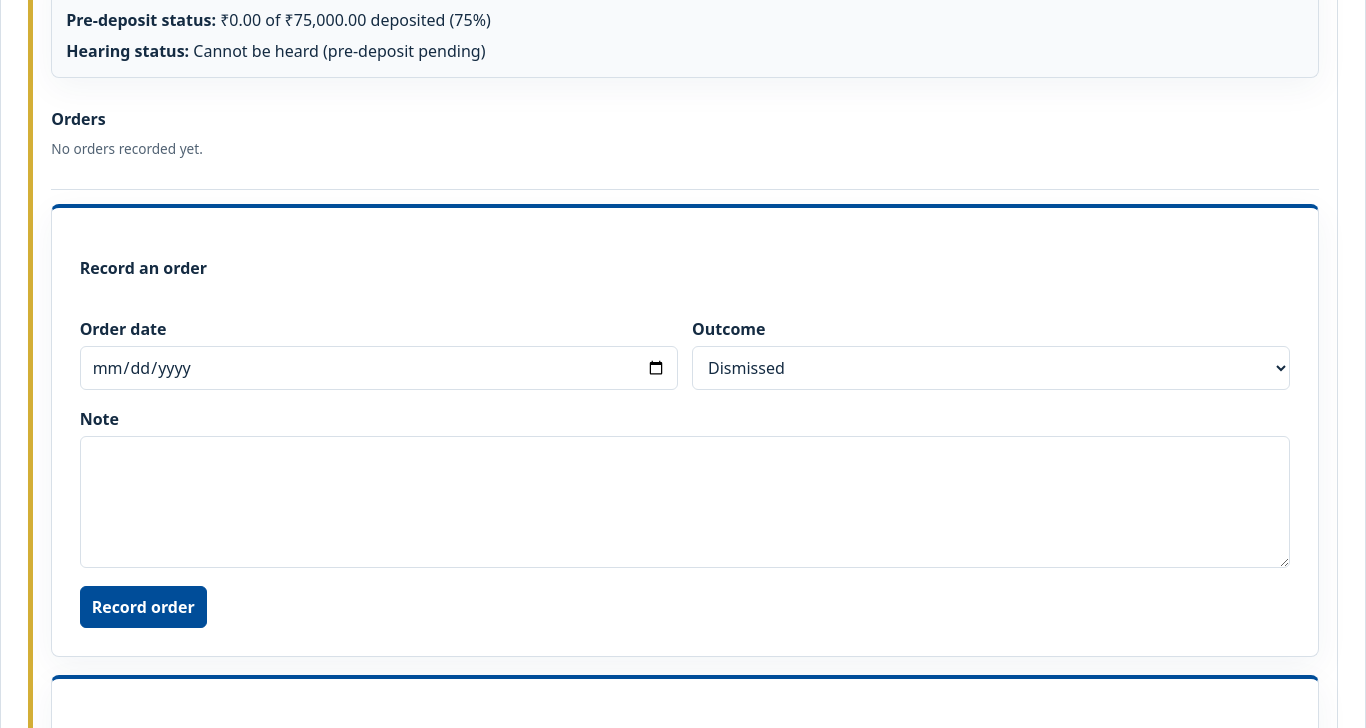
Test: submits the record order body with revised amount in paise for PARTLY_ALLOWED and displays the effect
The image size is (1366, 728).
(page scrolled)
Type "2026-10-03" into the date field labelled "Order date" at (379, 368), box [80,346,678,390]
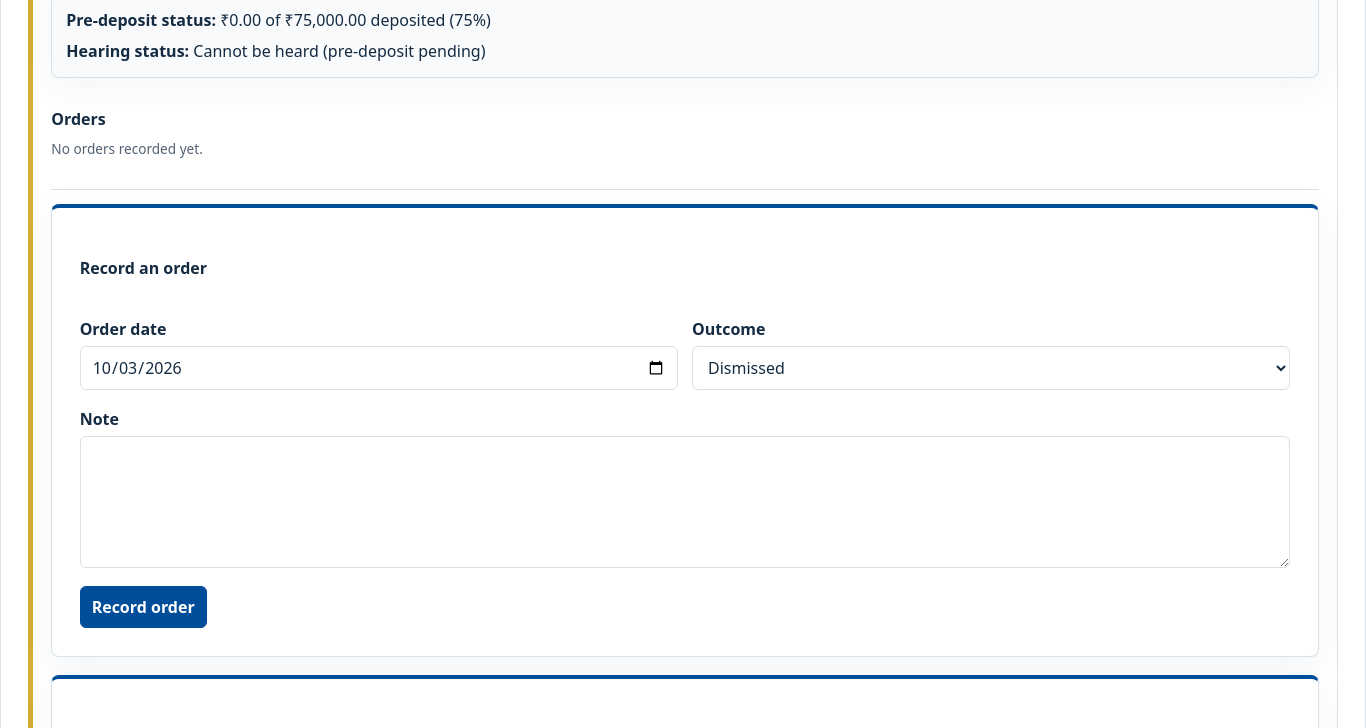
Select "Partly allowed" in the dropdown labelled "Outcome" at (991, 368), box [692,346,1290,390]
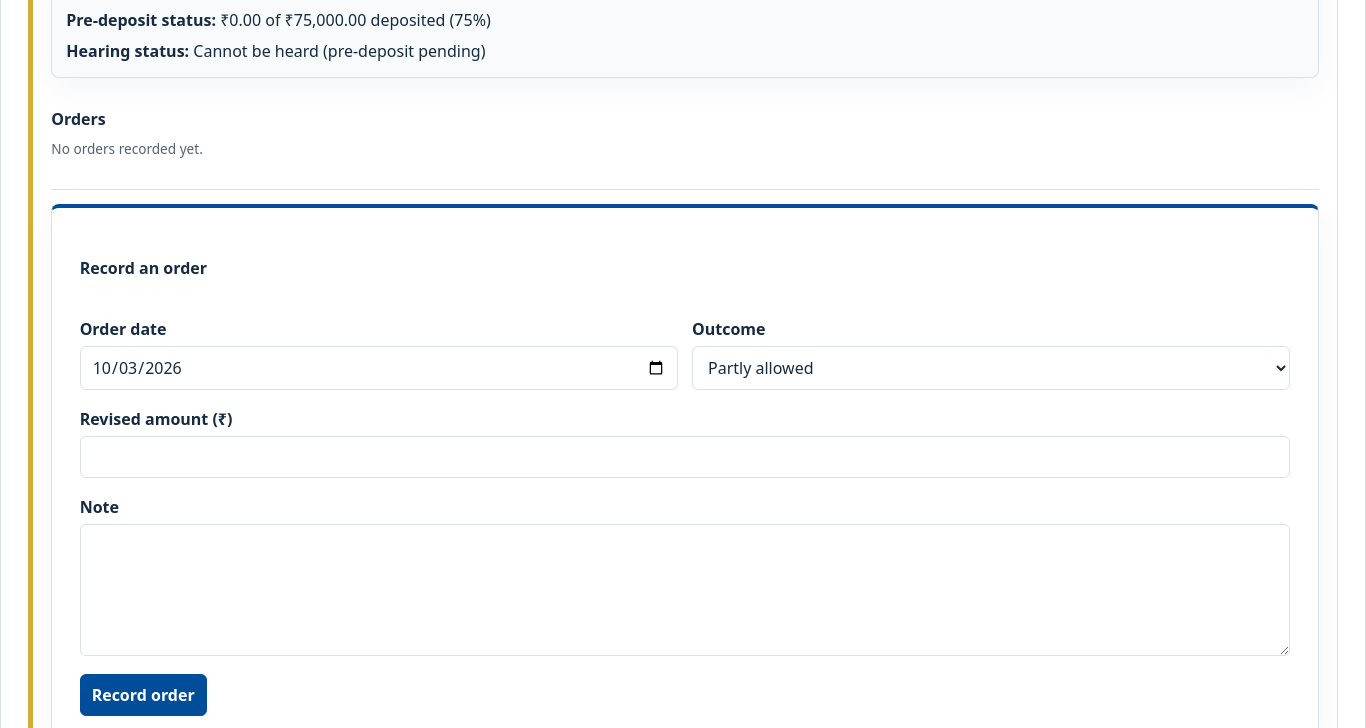
Type "50000" into the number field labelled "Revised amount (₹)" at (685, 457), box [80,436,1290,478]
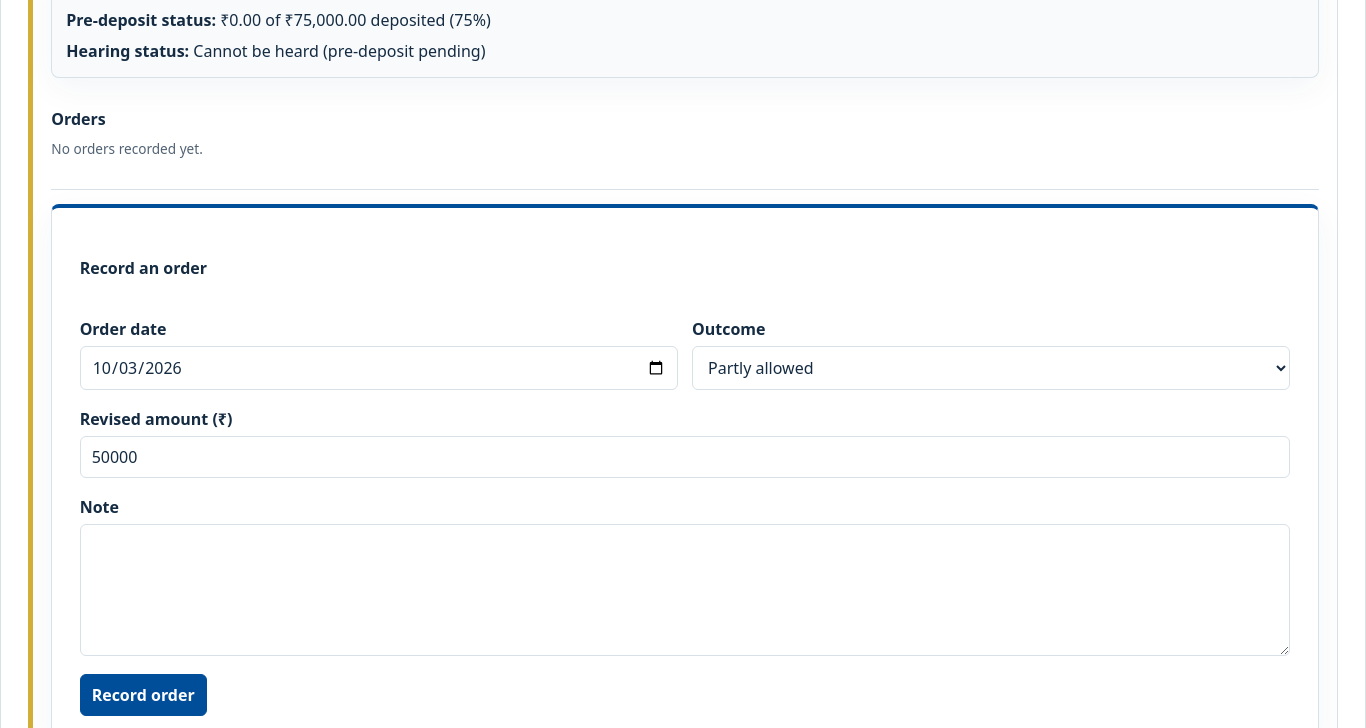
Type "Tribunal partially allowed appeal" into the text box labelled "Note" at (685, 590), box [80,524,1290,656]
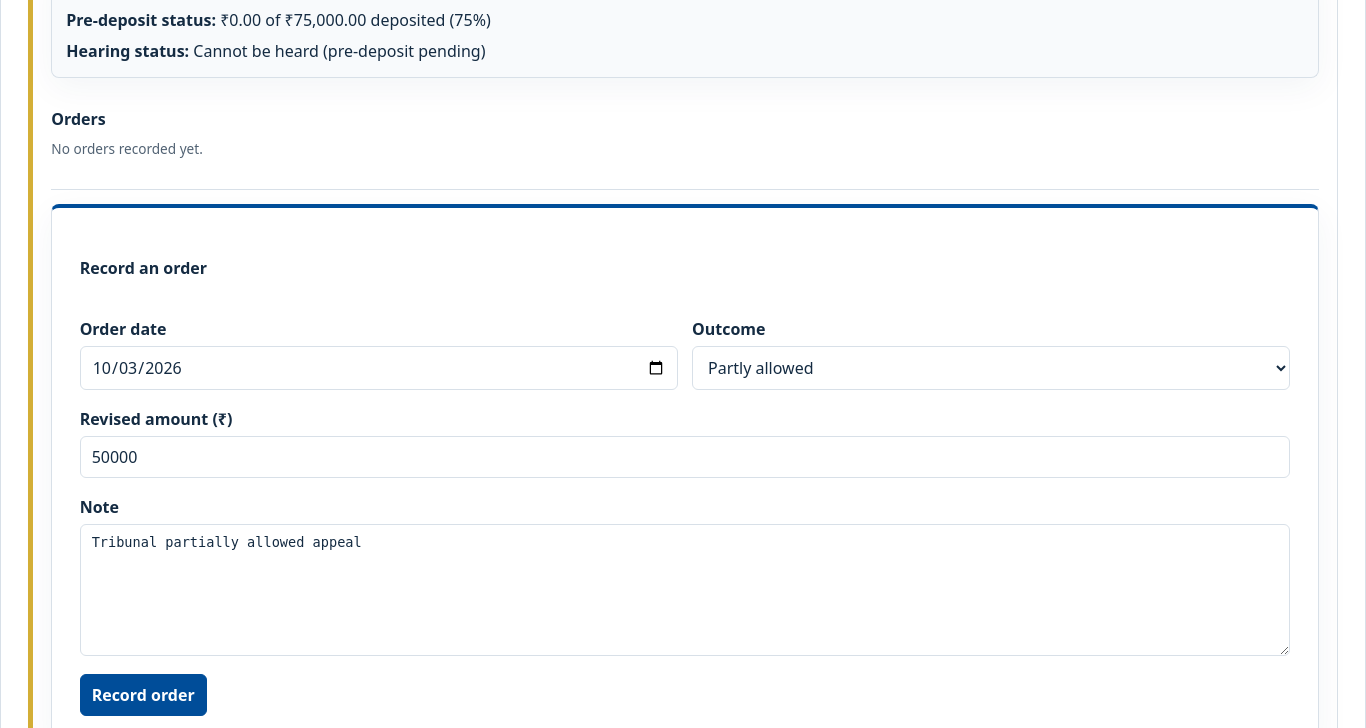
Click the button "Record order" at (143, 695), box [80,674,207,716]
(page scrolled)
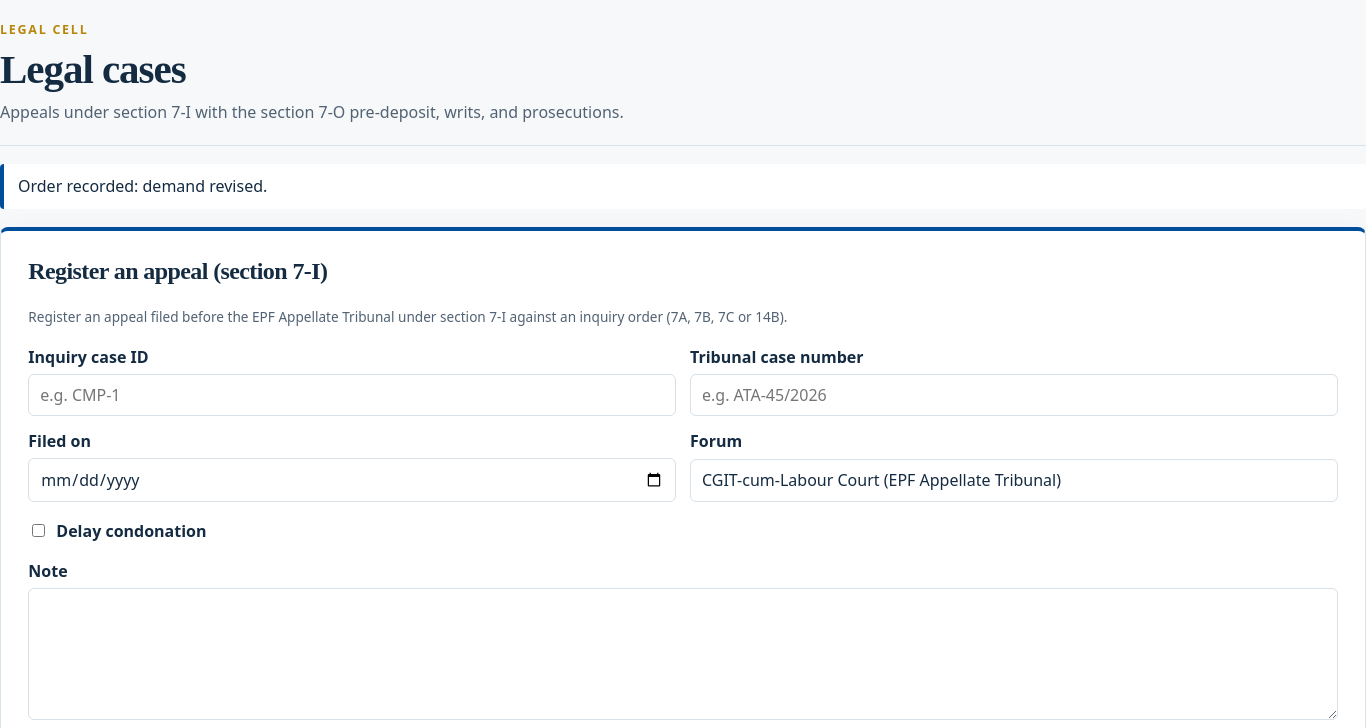
expect the text "Order recorded: demand revised." is shown: met, box [0,164,1365,209]
